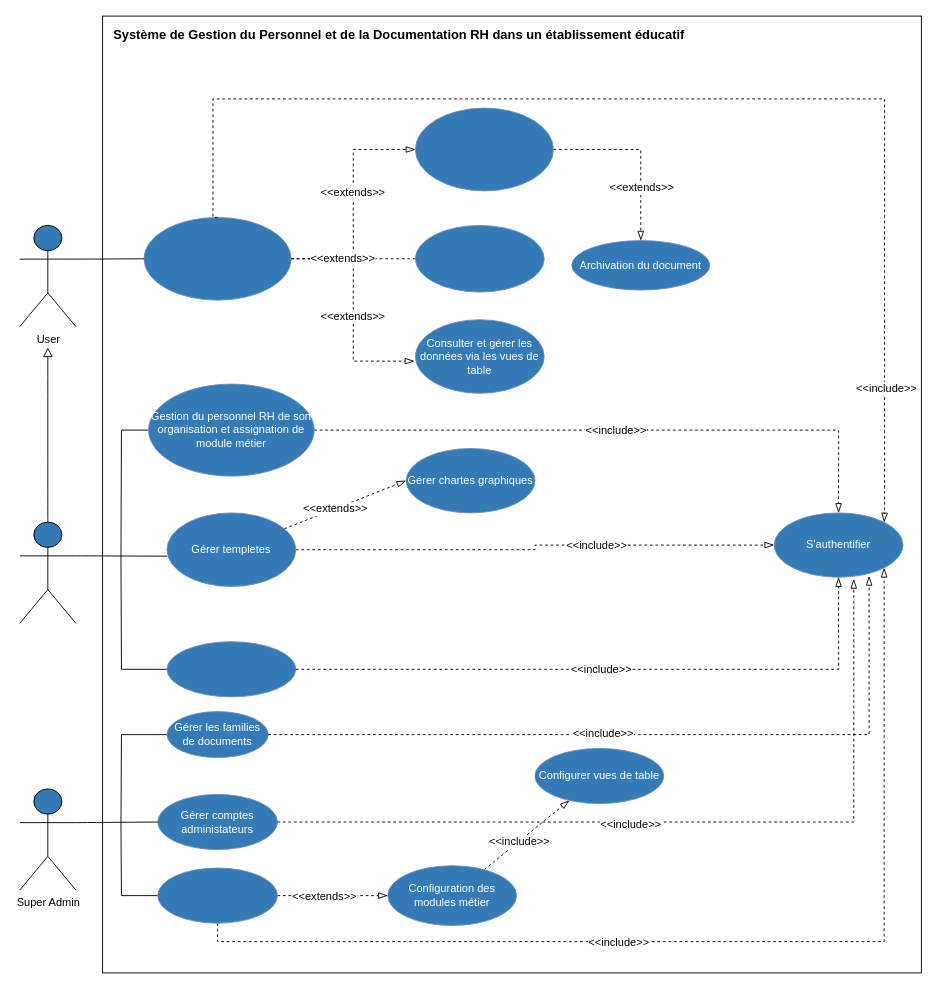
Image size: 937x989. Some labels were removed from this diagram. Each missing label, with the centre of its shape:
Admin: the point at 47,572
Gérer les années universitaire: the point at 231,669
Gérer les archives des documents: the point at 479,258
Gérer les modules métier assignés (CRUD générique): the point at 217,258
Gérer organisations: the point at 217,895
Prévisualiser / générer un document: the point at 483,149
